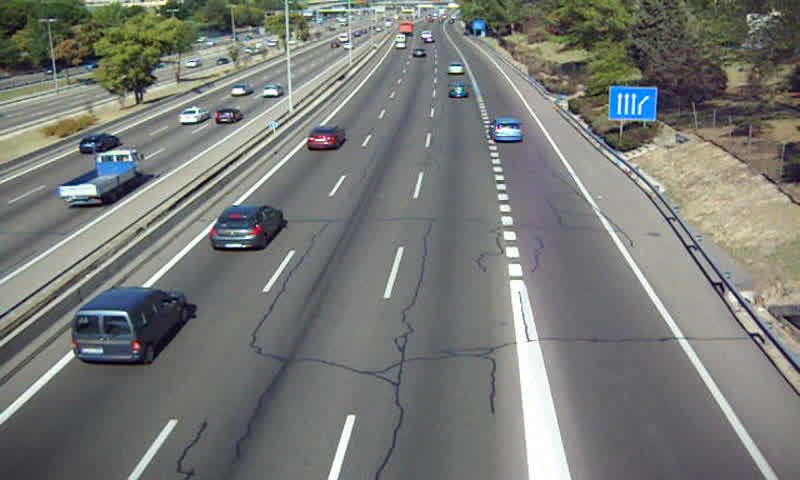car: (210, 204, 284, 248), (306, 126, 345, 149), (489, 117, 523, 142), (447, 82, 469, 98), (446, 61, 465, 72)
van: (69, 287, 188, 364)
